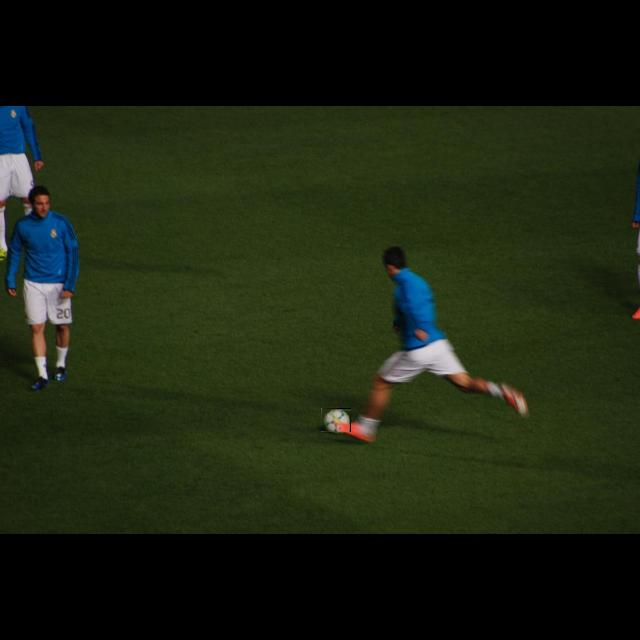Football: (321, 408, 351, 432)
